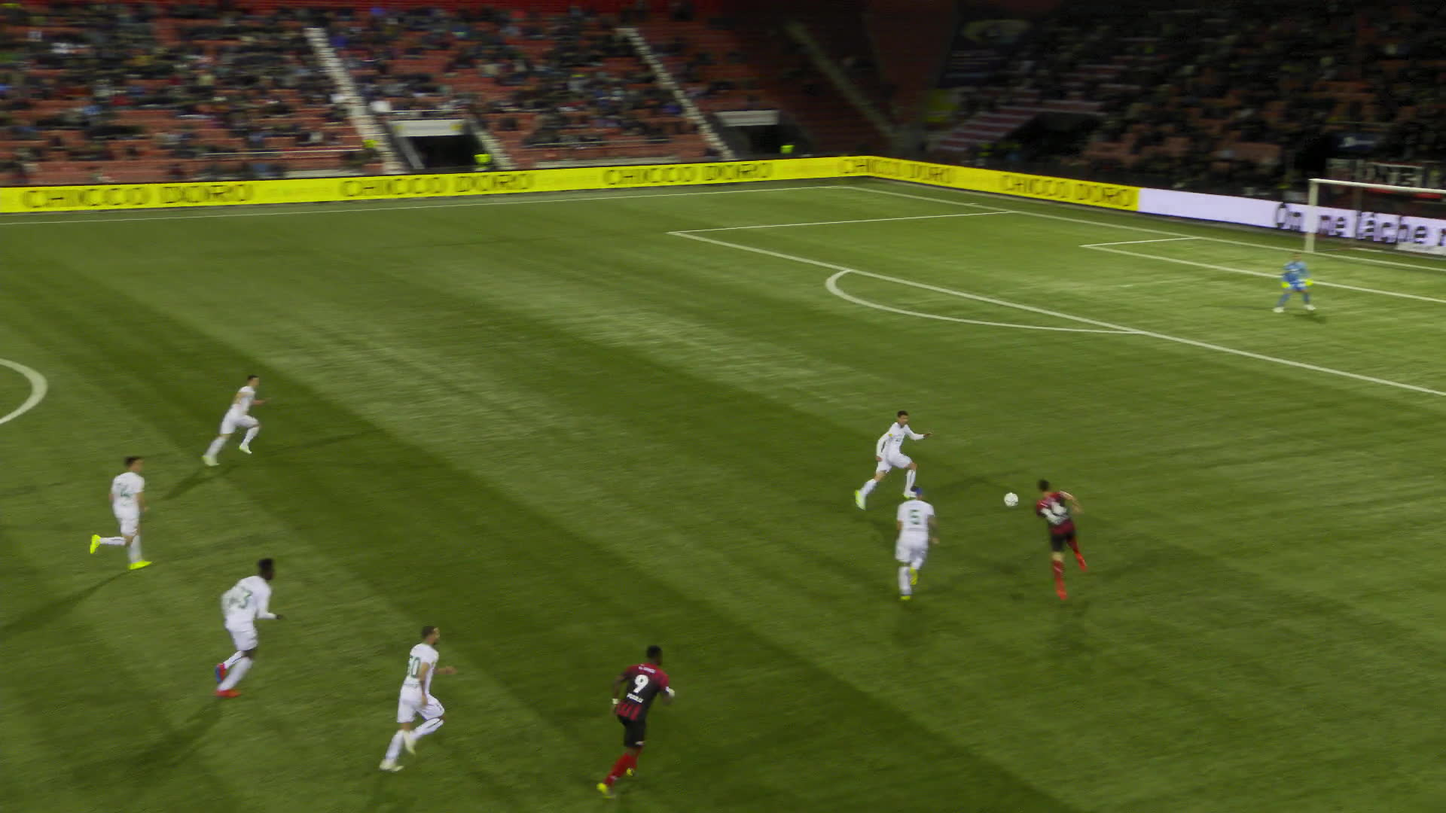ball: (1004, 492, 1017, 507)
player: (594, 644, 675, 800), (380, 624, 454, 772), (212, 555, 285, 698), (853, 409, 929, 509), (87, 456, 151, 569), (202, 375, 271, 466), (1033, 479, 1085, 596), (893, 484, 936, 601), (1277, 252, 1316, 313)
